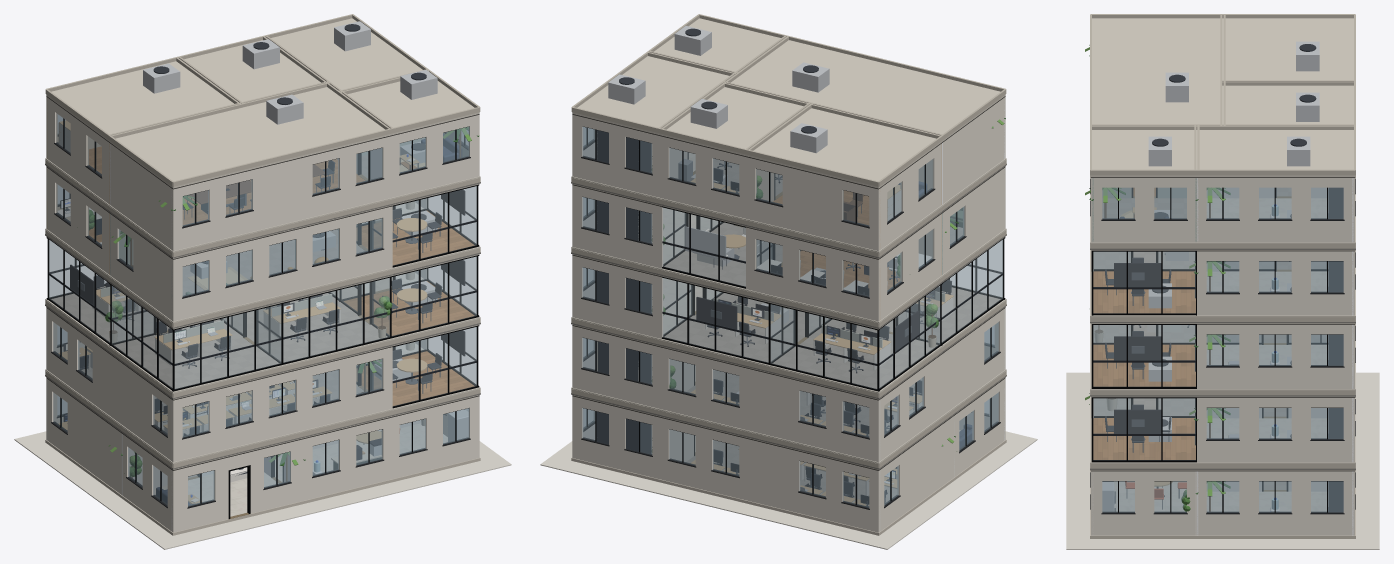
File: torre-compacta-5-andares.glb
3 views of the same model, side by side, from view 1: azimuth 30°, elevation 25°; view 2: azimuth 150°, elevation 25°; view 3: azimuth 270°, elevation 25° (orthographic). The views are drawn at different scales.
Visible parts, largest first — view 1: paredes_malha (×4), teto_malha (×5), divisorias_vidro_malha (×3), janelas_malha (×4), esquadrias_malha (×5), piso_carpete_malha (×3), laje_malha (×5), terreno_malha, piso_madeira_malha (×4), piso_porcelanato_malha, mesa-bancada_malha (×2), paredes_topo_malha (×2) (+1 smaller); view 2: paredes_malha (×5), teto_malha (×5), janelas_malha (×5), divisorias_vidro_malha (×2), esquadrias_malha (×5), piso_carpete_malha (×4), laje_malha (×5), terreno_malha, elevador_malha (×5), piso_porcelanato_malha (×2), mesa-bancada_malha (×2), paredes_topo_malha (×3) (+3 smaller); view 3: teto_malha (×5), paredes_malha (×5), janelas_malha (×5), divisorias_vidro_malha (×3), terreno_malha, piso_madeira_malha (×3), esquadrias_malha (×5), piso_porcelanato_malha (×5), laje_malha (×5), piso_carpete_malha (×4), tv-parede_malha (×3), elevador_malha (×5) (+2 smaller).
Boxes of the visible parts, bbox=[...] form: paredes_malha (×4): bbox=[46, 97, 479, 532]; teto_malha (×5): bbox=[45, 14, 480, 469]; divisorias_vidro_malha (×3): bbox=[49, 186, 476, 406]; janelas_malha (×4): bbox=[53, 113, 469, 506]; esquadrias_malha (×5): bbox=[46, 118, 479, 518]; piso_carpete_malha (×3): bbox=[51, 229, 387, 435]; laje_malha (×5): bbox=[45, 158, 480, 535]; terreno_malha: bbox=[14, 431, 511, 549]; piso_madeira_malha (×4): bbox=[89, 146, 474, 405]; piso_porcelanato_malha: bbox=[155, 423, 447, 516]; mesa-bancada_malha (×2): bbox=[154, 294, 340, 365]; paredes_topo_malha (×2): bbox=[46, 96, 479, 470]; paredes_malha (×5): bbox=[572, 97, 1005, 532]; teto_malha (×5): bbox=[571, 14, 1006, 469]; janelas_malha (×5): bbox=[582, 126, 998, 507]; divisorias_vidro_malha (×2): bbox=[662, 207, 1002, 389]; esquadrias_malha (×5): bbox=[581, 126, 1005, 509]; piso_carpete_malha (×4): bbox=[664, 222, 1000, 502]; laje_malha (×5): bbox=[571, 158, 1006, 535]; terreno_malha: bbox=[540, 431, 1037, 549]; elevador_malha (×5): bbox=[596, 130, 651, 453]; piso_porcelanato_malha (×2): bbox=[663, 208, 720, 333]; mesa-bancada_malha (×2): bbox=[705, 298, 890, 370]; paredes_topo_malha (×3): bbox=[572, 96, 1005, 470]; teto_malha (×5): bbox=[1090, 14, 1355, 470]; paredes_malha (×5): bbox=[1091, 178, 1354, 535]; janelas_malha (×5): bbox=[1102, 187, 1343, 512]; divisorias_vidro_malha (×3): bbox=[1093, 251, 1326, 460]; terreno_malha: bbox=[1066, 372, 1379, 549]; piso_madeira_malha (×3): bbox=[1093, 271, 1195, 459]; esquadrias_malha (×5): bbox=[1090, 178, 1355, 514]; piso_porcelanato_malha (×5): bbox=[1114, 198, 1326, 511]; laje_malha (×5): bbox=[1090, 175, 1355, 538]; piso_carpete_malha (×4): bbox=[1093, 188, 1326, 416]; tv-parede_malha (×3): bbox=[1114, 263, 1161, 433]; elevador_malha (×5): bbox=[1328, 188, 1343, 511].
Size of the model in its own units: 16 by 16.21 by 12.
25 materials, 5 textured.
